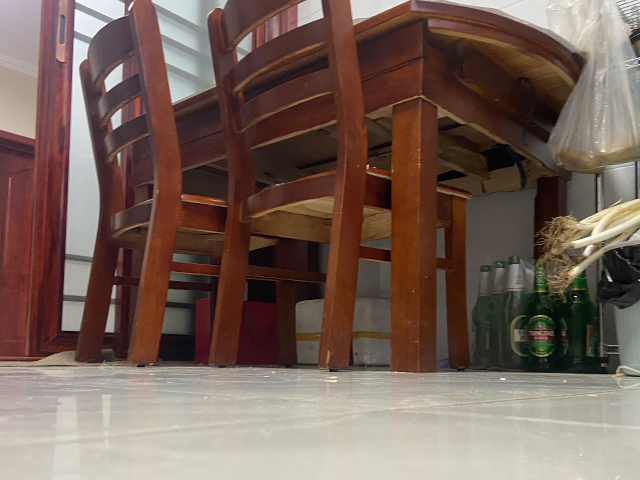carpet: (1, 349, 123, 367)
stool: (206, 1, 474, 372), (72, 1, 300, 366)
table: (112, 1, 582, 374)
